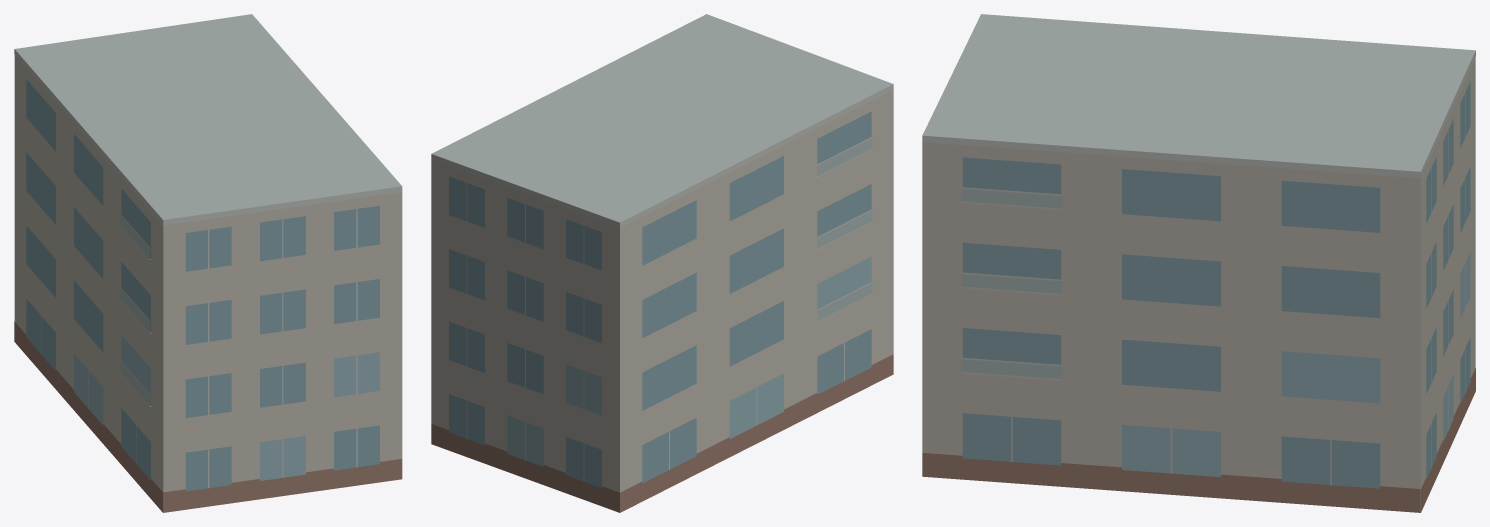
The model's file is survey-upis-32745033.glb.
The picture shows the model from 3 angles, left to right: view 1: azimuth 30°, elevation 25°; view 2: azimuth 150°, elevation 25°; view 3: azimuth 270°, elevation 25°; orthographic projection. The views are drawn at different scales.
Parts seen in each view (by area): view 1: survey-upis-32745033.tmp; view 2: survey-upis-32745033.tmp; view 3: survey-upis-32745033.tmp.
Boxes of the visible parts, x1,y1,x2,y2 form: survey-upis-32745033.tmp: [14, 14, 402, 512]; survey-upis-32745033.tmp: [431, 14, 893, 512]; survey-upis-32745033.tmp: [922, 14, 1475, 512].
Size of the model in its own units: 12.81 by 12.9 by 18.98.
